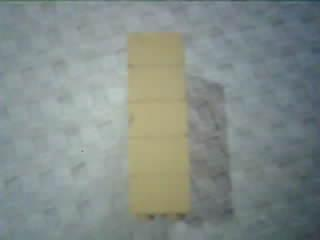lego: (123, 21, 191, 223)
